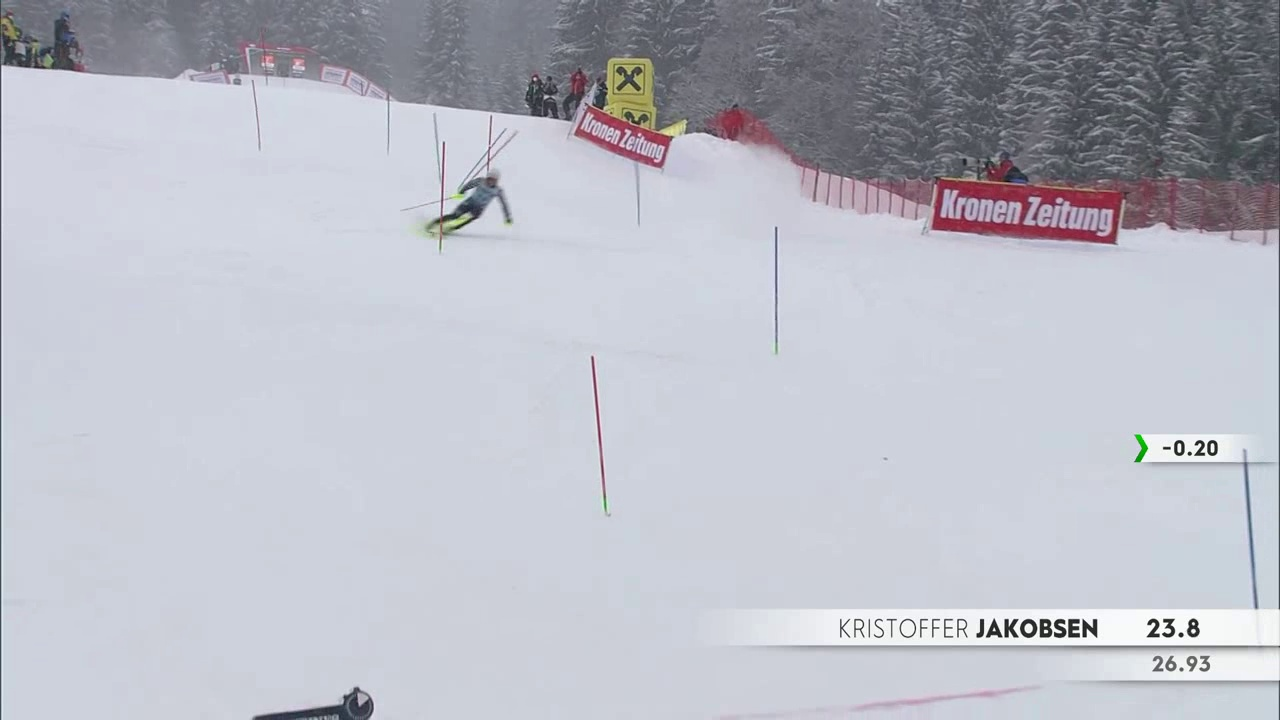kronenzeitung: (935, 190, 1119, 242), (576, 121, 670, 161)
raiffeisen: (609, 61, 650, 98)
